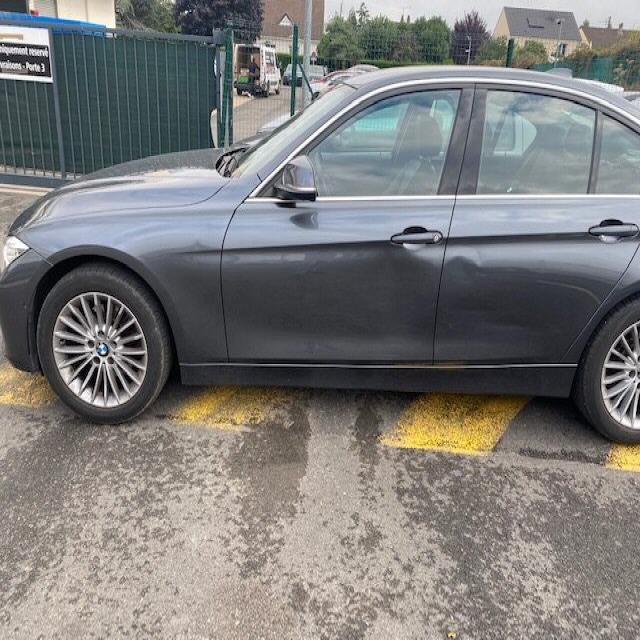porte-avant: (219, 80, 477, 369)
